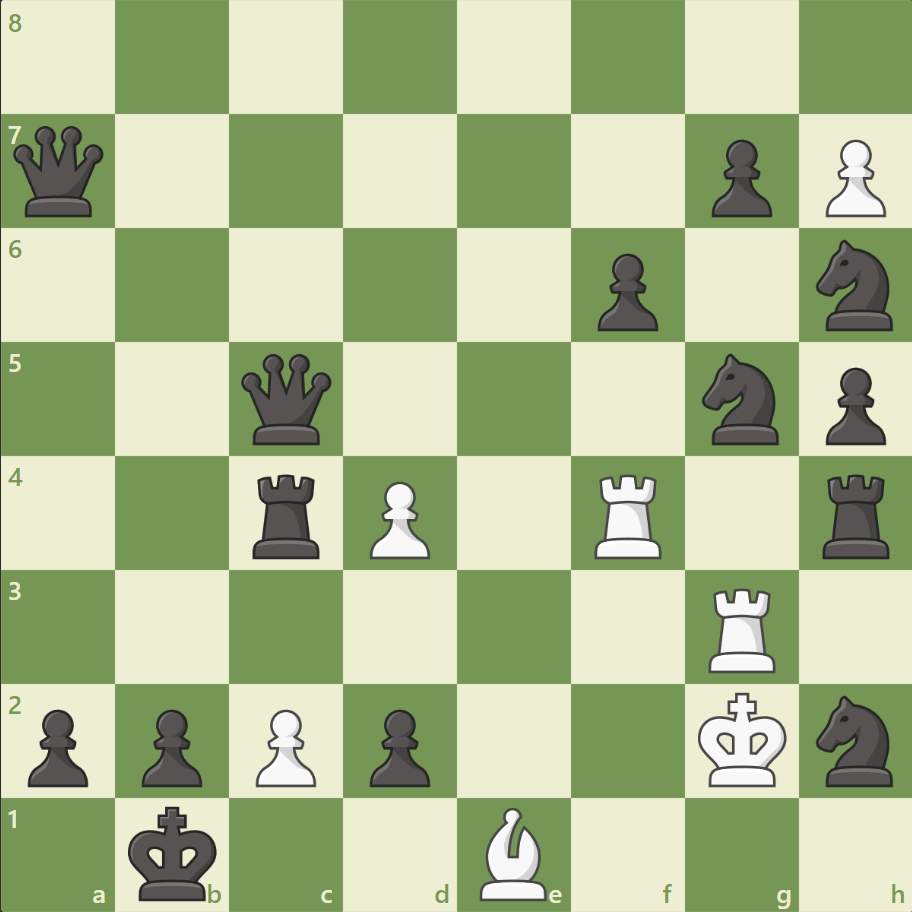B: (471, 801, 555, 904)
K: (692, 685, 792, 793)
P: (247, 700, 322, 791), (815, 132, 889, 223), (361, 473, 435, 564)
R: (587, 466, 670, 563), (700, 579, 783, 676)
k: (124, 798, 224, 906)
n: (806, 234, 903, 337), (806, 688, 903, 791), (692, 348, 789, 450)
p: (701, 132, 776, 223), (20, 700, 95, 791), (133, 700, 208, 791), (588, 246, 662, 337), (815, 359, 889, 450), (361, 700, 435, 791)
q: (10, 122, 109, 222), (237, 349, 336, 449)
r: (246, 466, 329, 563), (814, 466, 897, 563)
